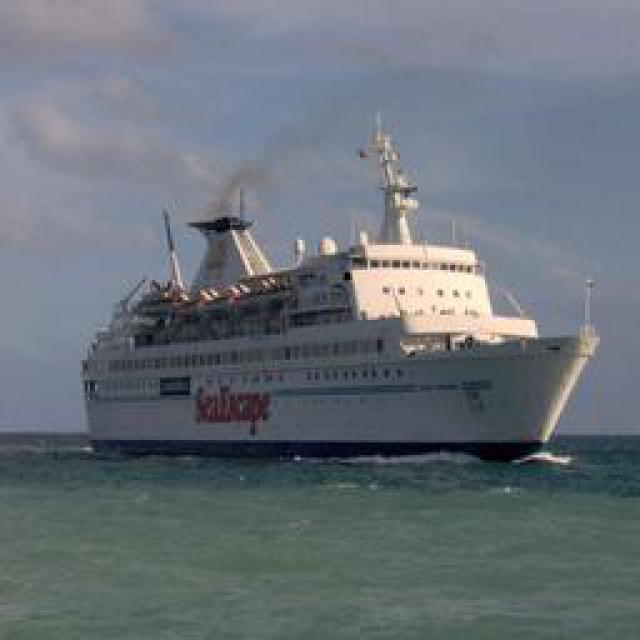Ship: (78, 116, 603, 454)
